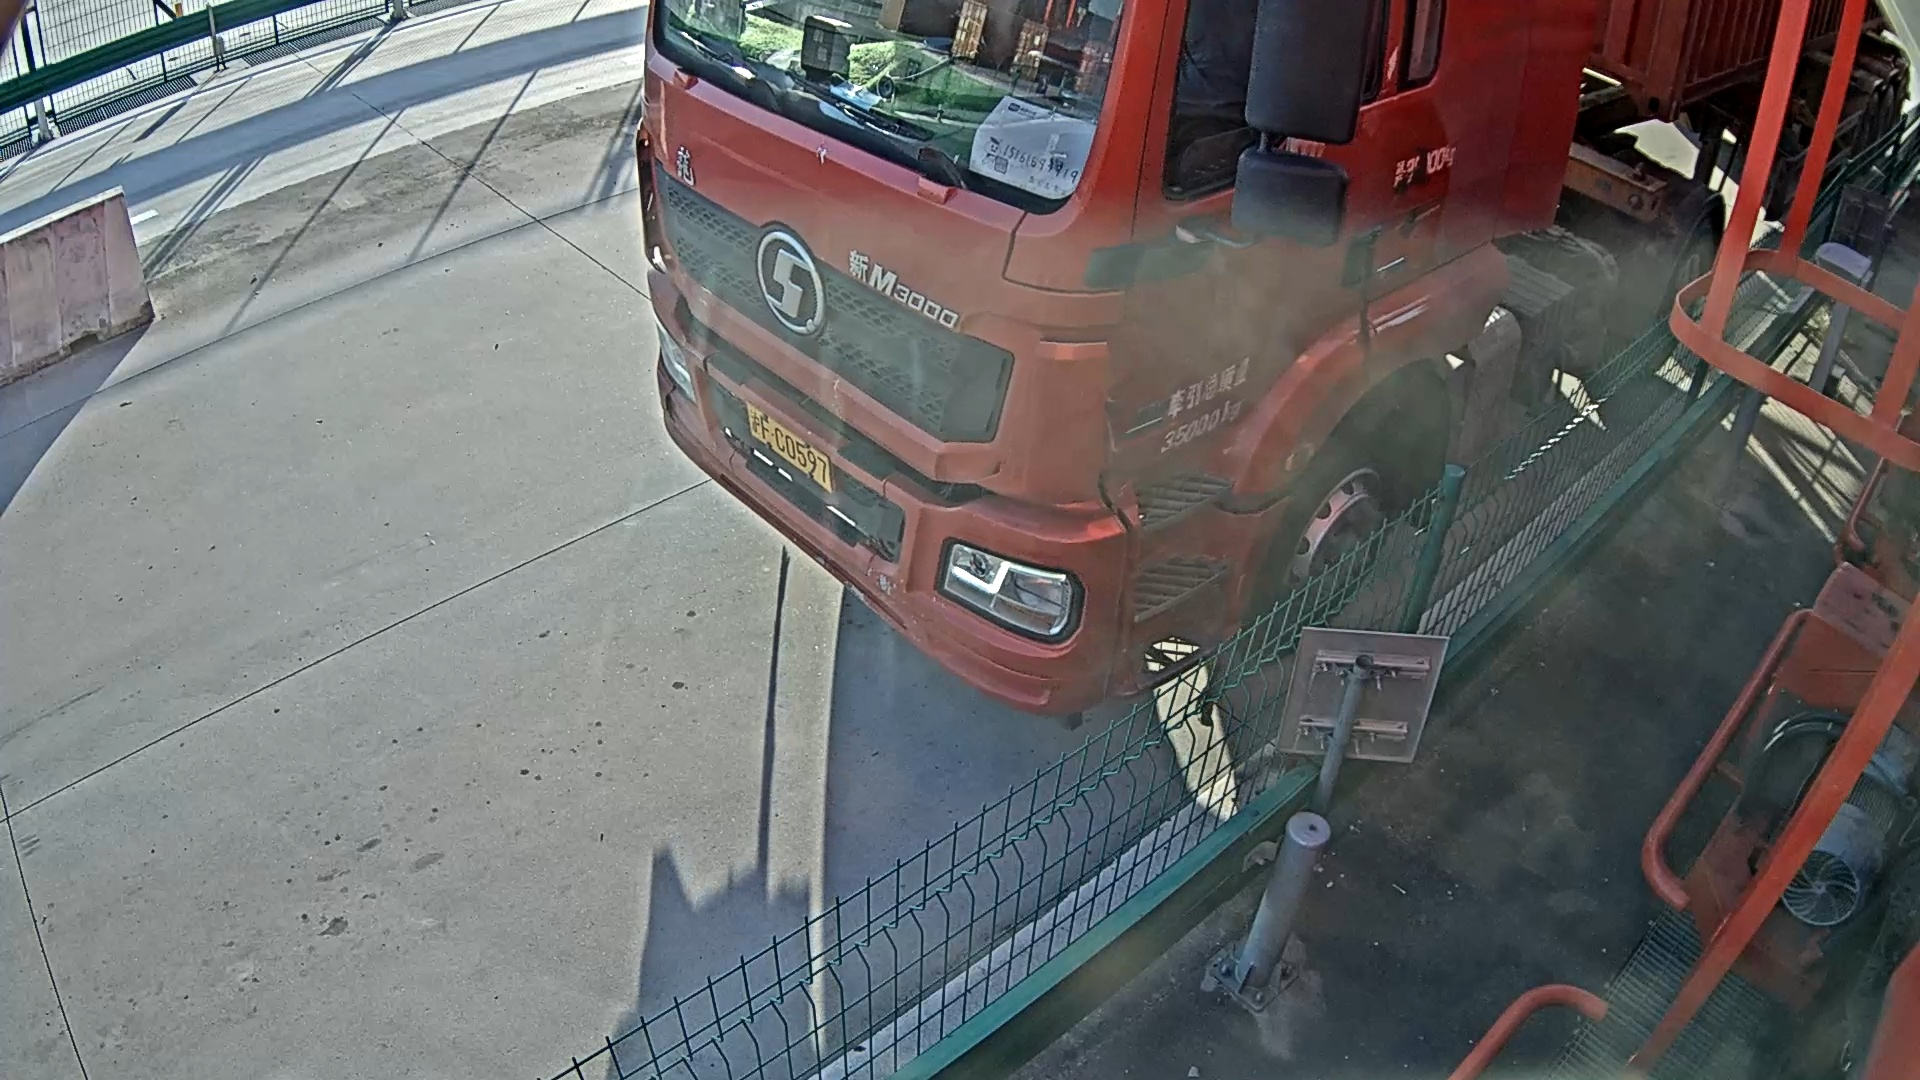head: (629, 2, 1283, 748)
plate: (742, 405, 855, 484)
